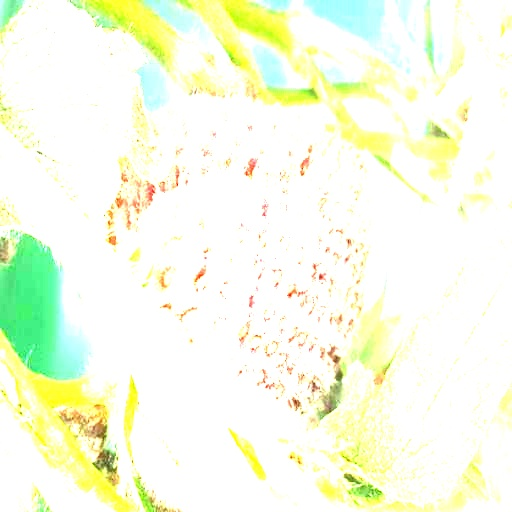Powdery Mildew Fruit: (105, 95, 378, 511)
